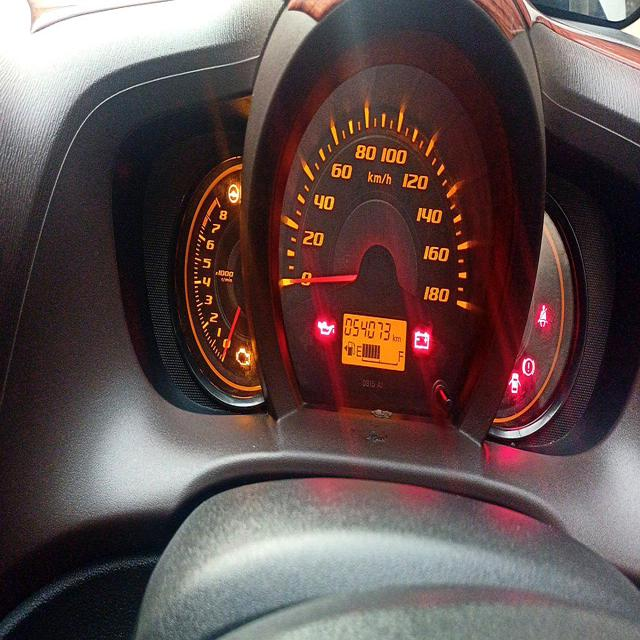odometer: (344, 316, 392, 344)
